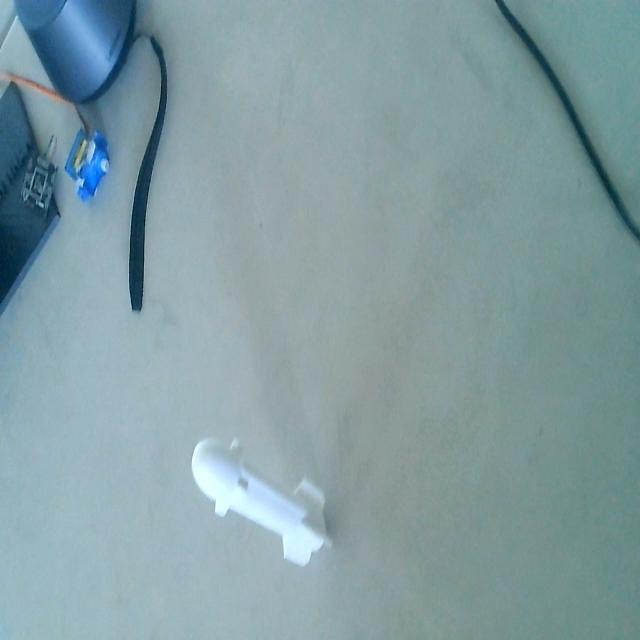Rocket: (189, 428, 334, 583)
